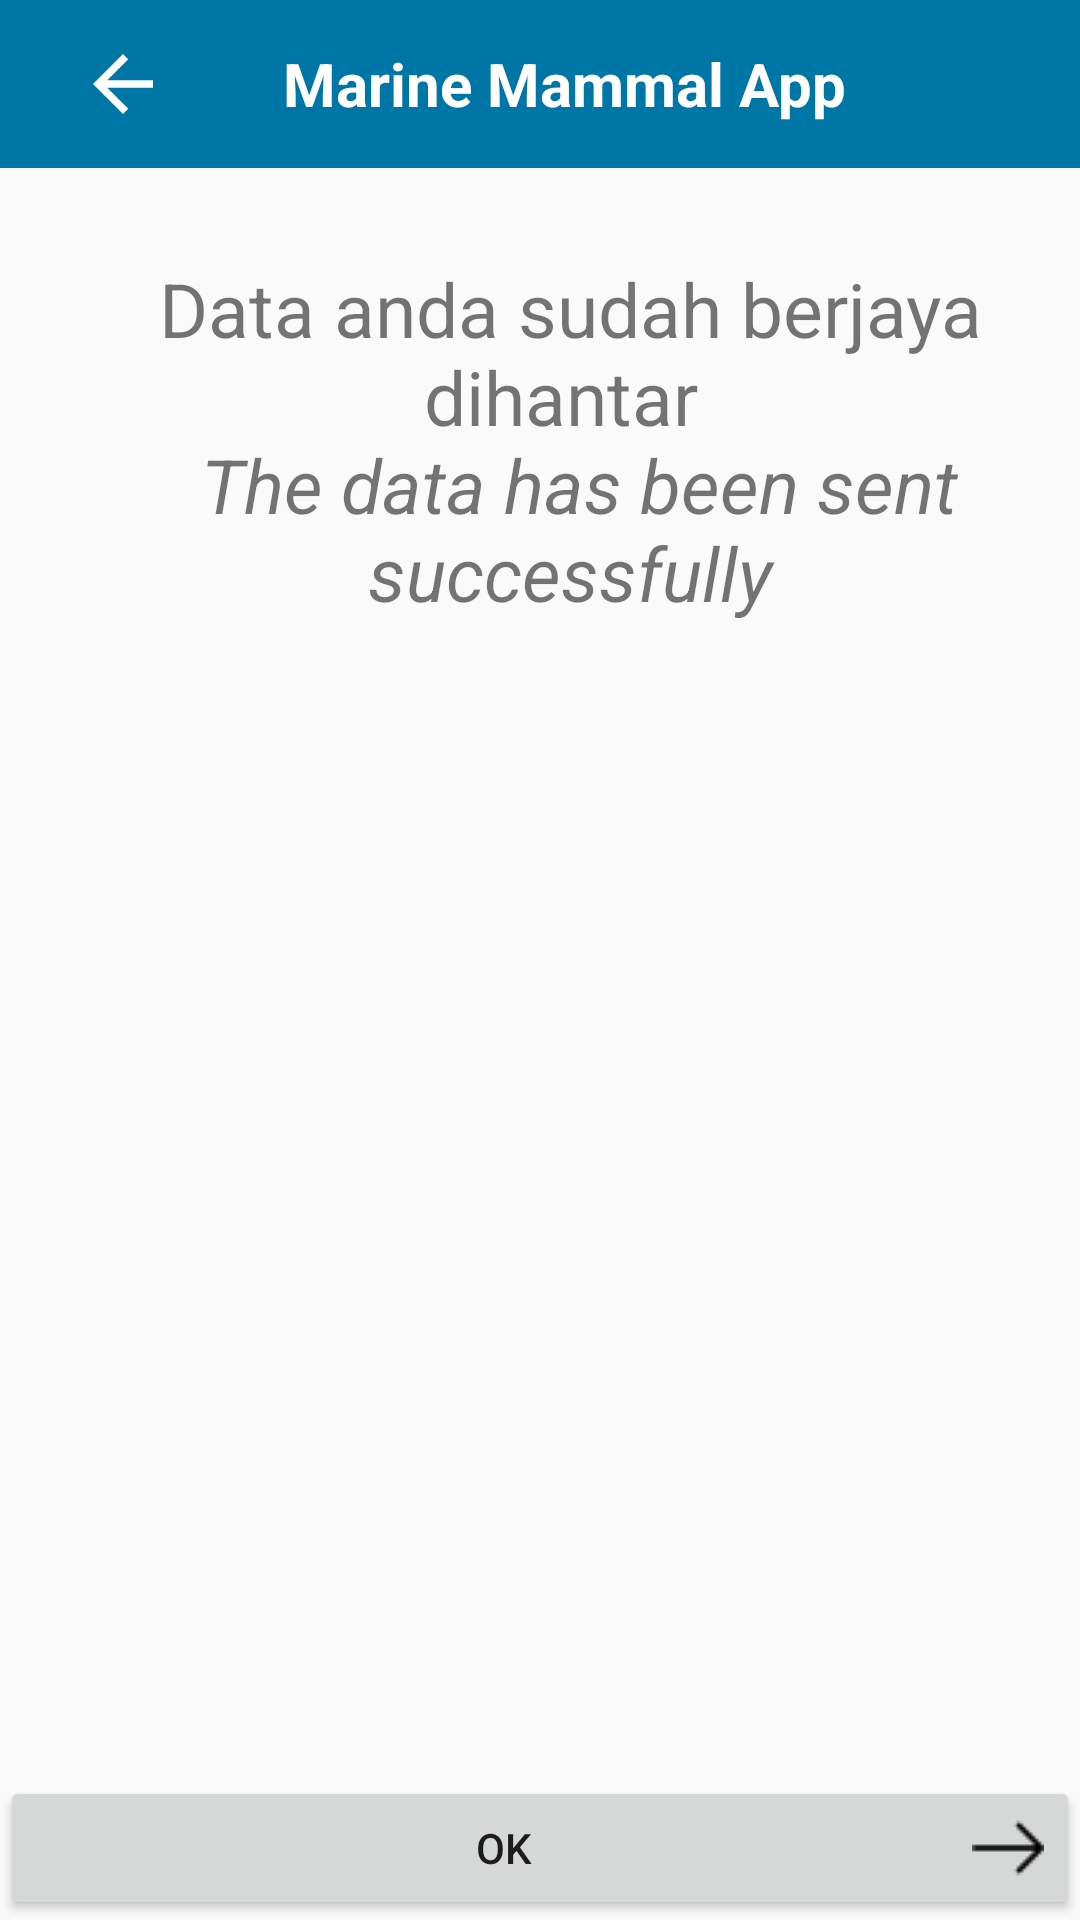

Where icons sit on this 1080×1920 app screen, as (x1,y1,x2,y2):
Back button: (93,54,153,114)
